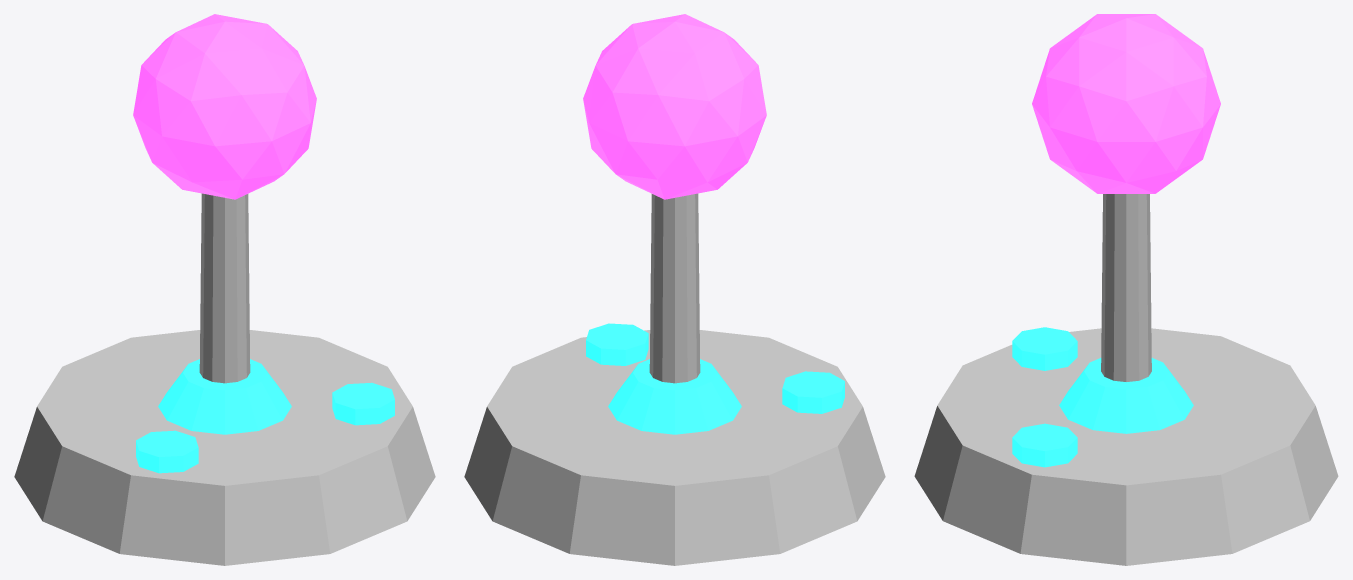
3 renders of one model, left to right at view 1: azimuth 30°, elevation 25°; view 2: azimuth 150°, elevation 25°; view 3: azimuth 270°, elevation 25°, orthographic.
Visible parts, largest first — view 1: Neon_GiantJoystick_Standard; view 2: Neon_GiantJoystick_Standard; view 3: Neon_GiantJoystick_Standard.
Part boxes in pixels (x1,y1,x2,y2): Neon_GiantJoystick_Standard: (14, 14, 435, 565); Neon_GiantJoystick_Standard: (464, 14, 885, 565); Neon_GiantJoystick_Standard: (914, 14, 1338, 565).
Bounding box in the file's own units: 1.3 × 1.55 × 1.3.
